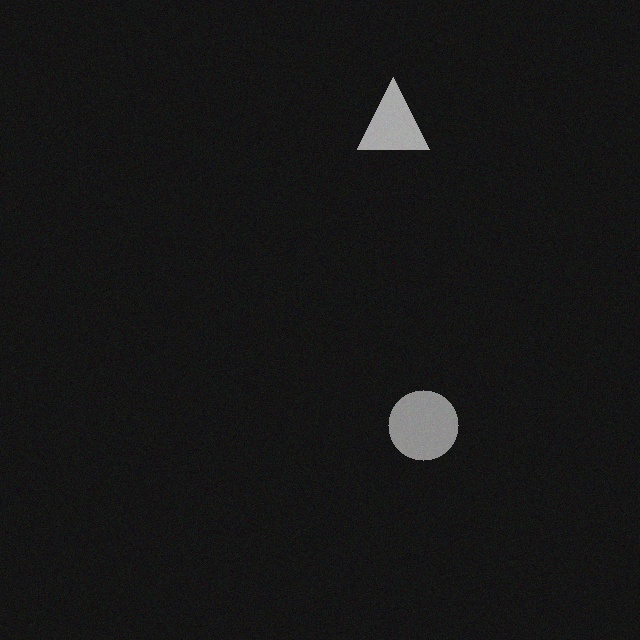circle: (396, 382, 466, 452)
triangle: (365, 69, 437, 141)
